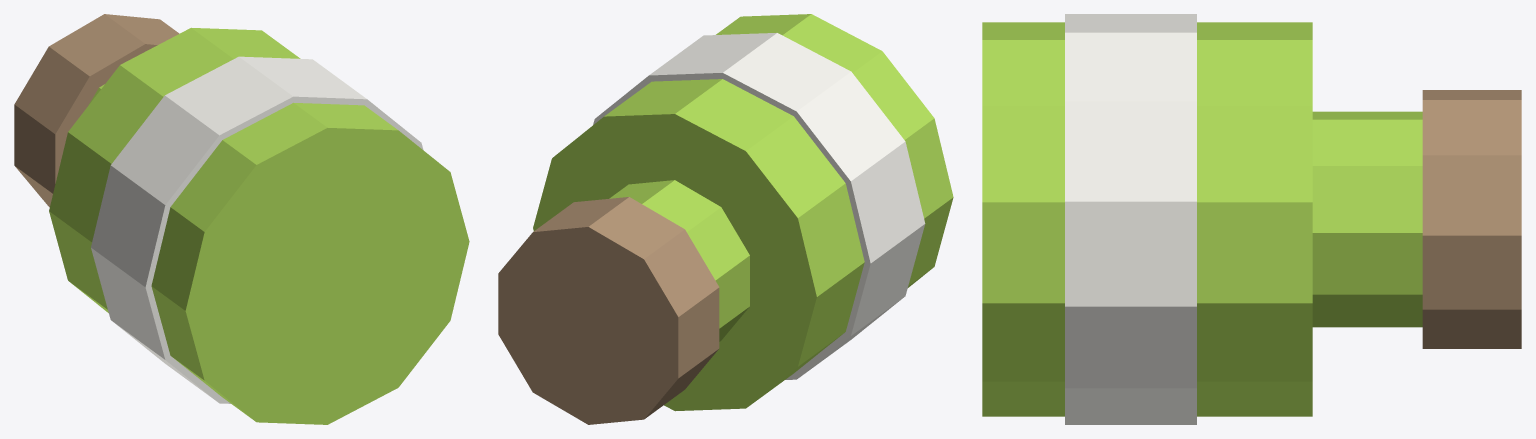
Rendered from lime_dye_held.gltf.
3 views of the same model, side by side, from view 1: azimuth 30°, elevation 25°; view 2: azimuth 150°, elevation 25°; view 3: azimuth 270°, elevation 25° (orthographic). The views are drawn at different scales.
Visible parts, largest first — view 1: colors_lime_dye_held; view 2: colors_lime_dye_held; view 3: colors_lime_dye_held.
Part boxes in pixels (x1=…): colors_lime_dye_held: x1=14, y1=14, x2=469, y2=424; colors_lime_dye_held: x1=498, y1=14, x2=953, y2=424; colors_lime_dye_held: x1=982, y1=14, x2=1521, y2=424.
Size of the model in its own units: 0.075 by 0.075 by 0.098.
